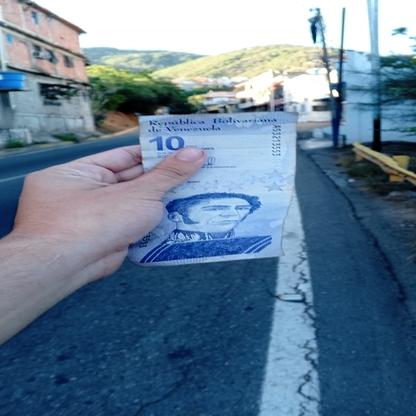ten-front-vef: (130, 112, 300, 266)
